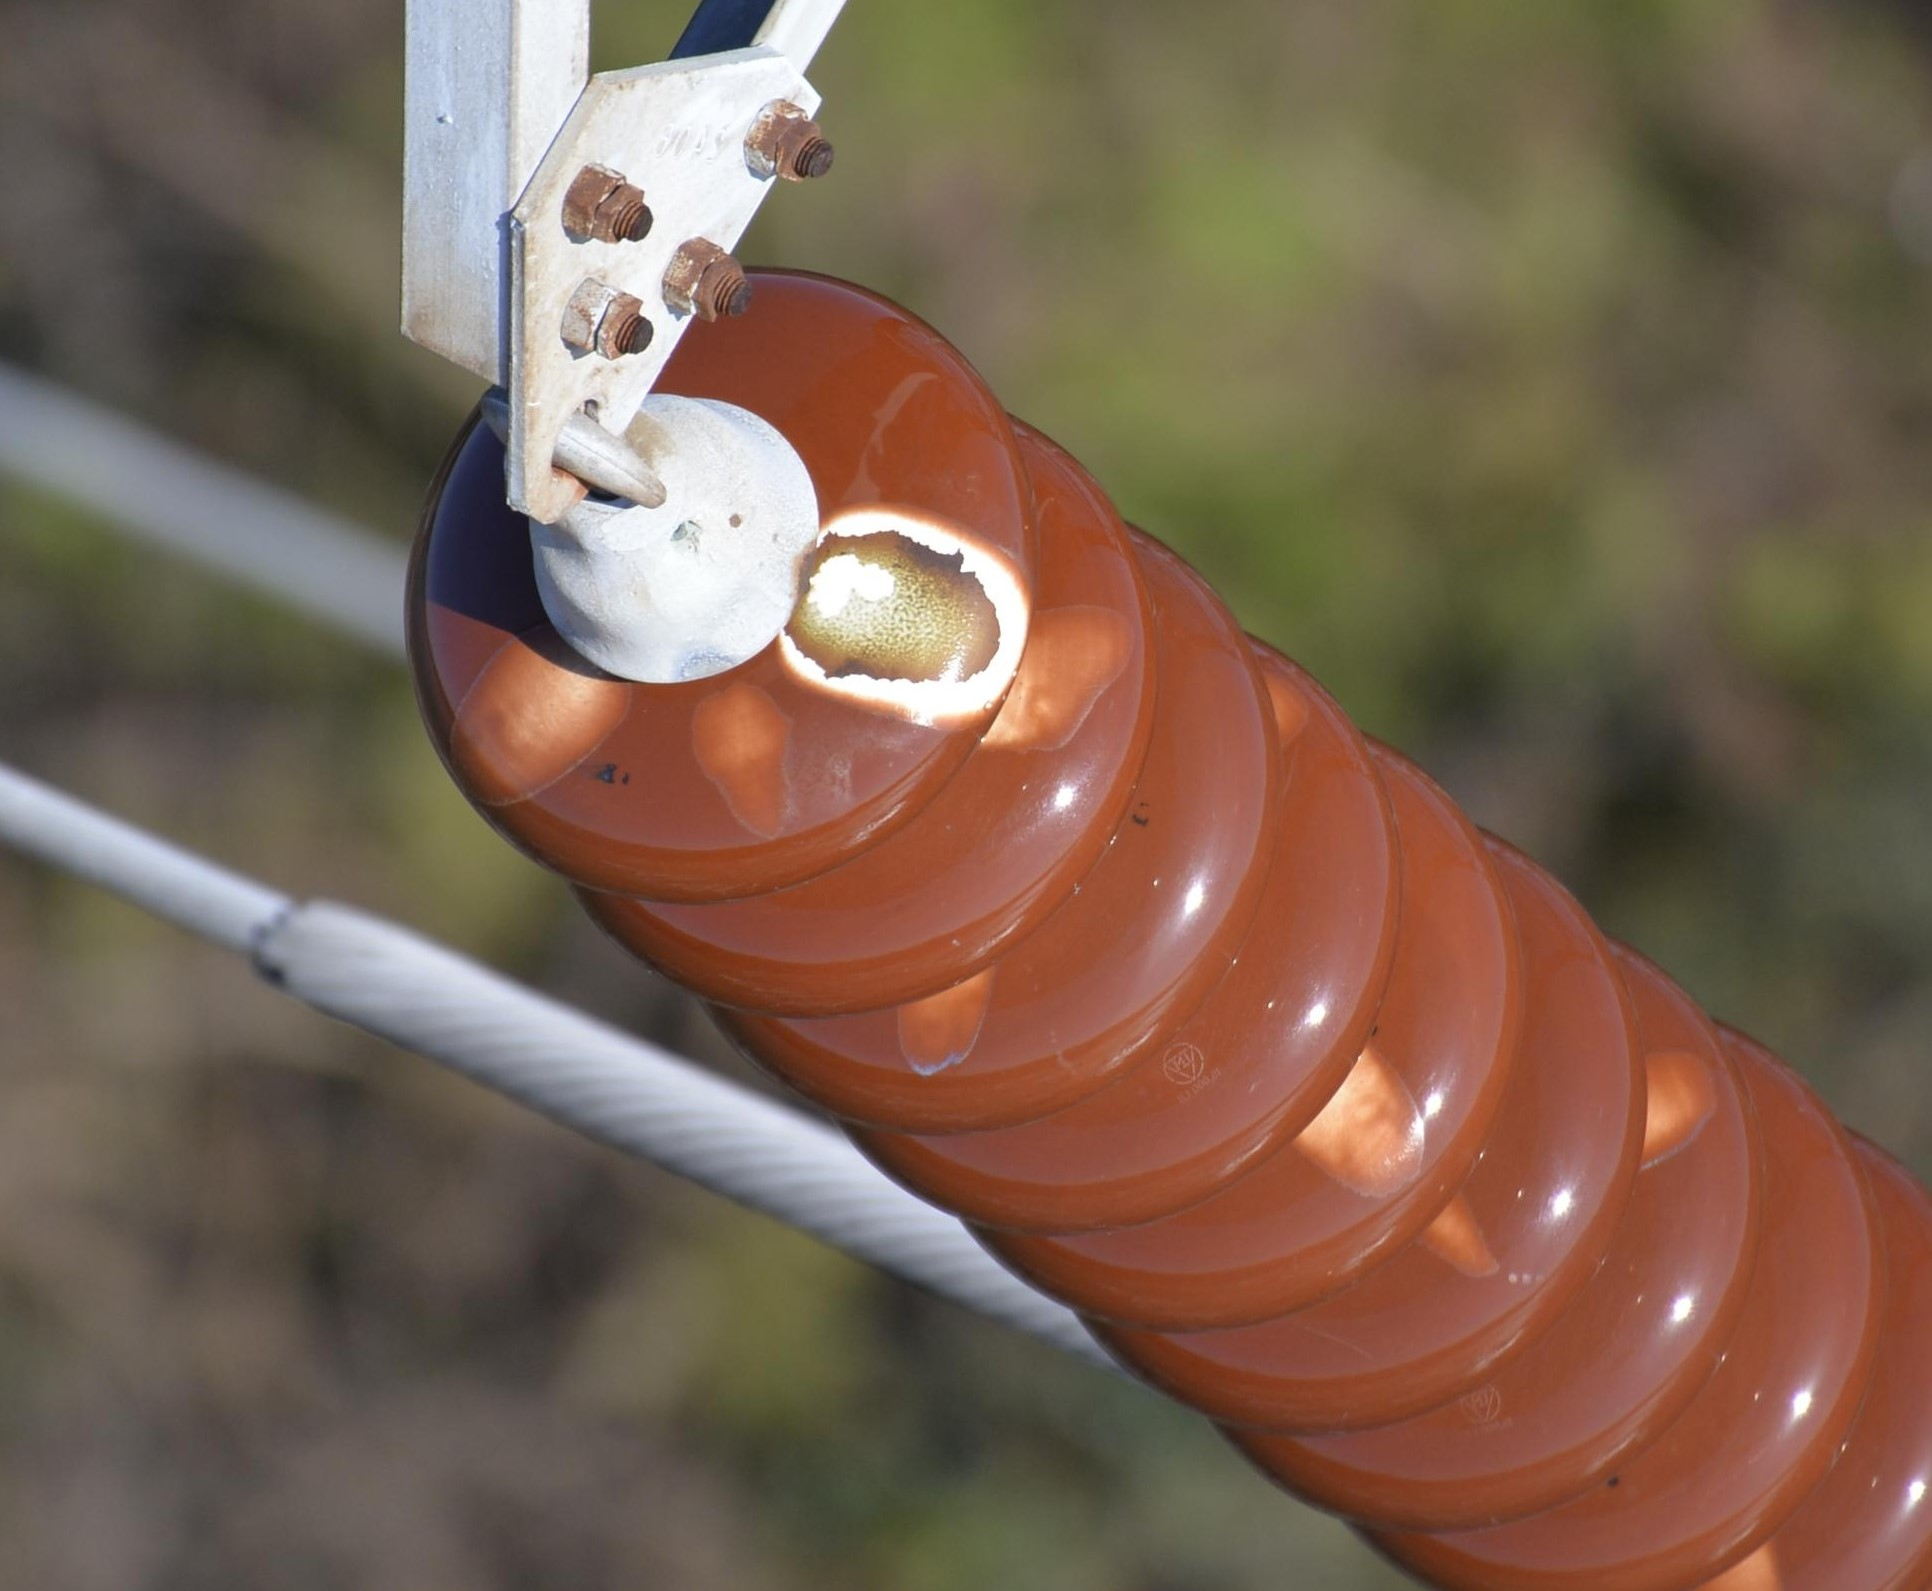Insulator flashover: (392, 254, 1041, 909)
